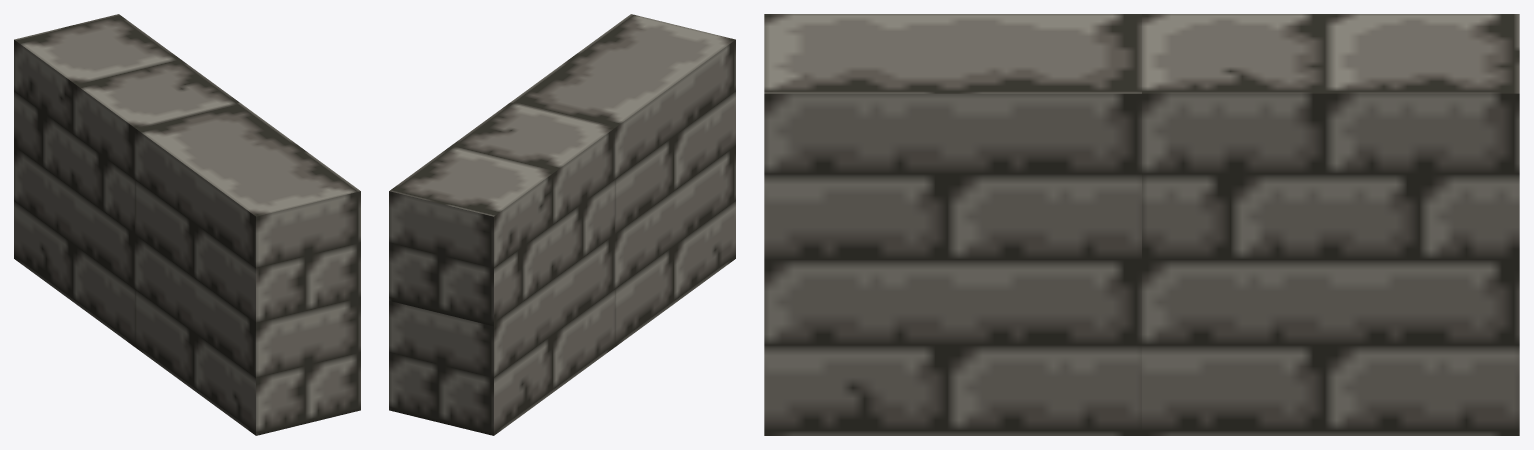
File: Trim_Piece_2M_x2.fbx
3 renders of one model, left to right at view 1: azimuth 30°, elevation 25°; view 2: azimuth 150°, elevation 25°; view 3: azimuth 270°, elevation 25°, orthographic. The views are drawn at different scales.
Visible parts, largest first — view 1: Wall_Piece_2M_x2; view 2: Wall_Piece_2M_x2; view 3: Wall_Piece_2M_x2.
Part boxes in pixels (left/top/right/bottom): Wall_Piece_2M_x2: left=14, top=14, right=360, bottom=435; Wall_Piece_2M_x2: left=389, top=14, right=735, bottom=435; Wall_Piece_2M_x2: left=764, top=14, right=1519, bottom=435.
Bounding box in the file's own units: 100 × 200 × 400.
1 material, 1 textured.
